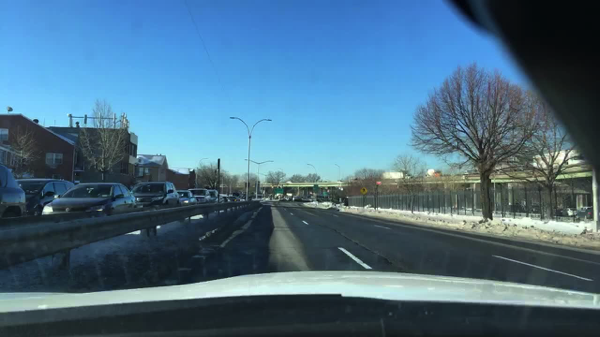car: (42, 183, 137, 217), (16, 179, 75, 216), (1, 163, 27, 219), (131, 181, 180, 210), (187, 189, 211, 204), (176, 190, 198, 206), (576, 206, 592, 219), (561, 208, 578, 216), (208, 190, 219, 202), (228, 195, 237, 202), (531, 207, 540, 214), (218, 195, 228, 201), (128, 185, 134, 193), (283, 196, 290, 202)
traffic sign: (360, 187, 367, 195), (274, 189, 283, 194), (375, 181, 383, 186), (217, 158, 220, 169), (313, 185, 317, 191)
